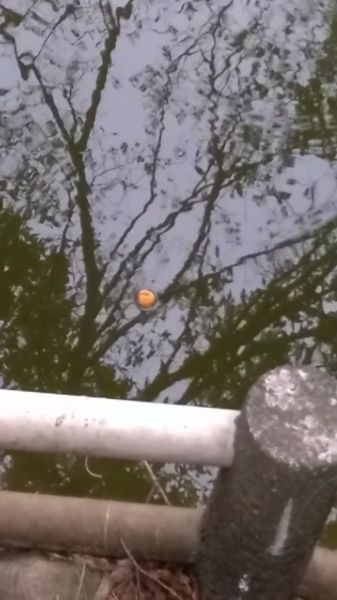eggs: (132, 286, 162, 310)
